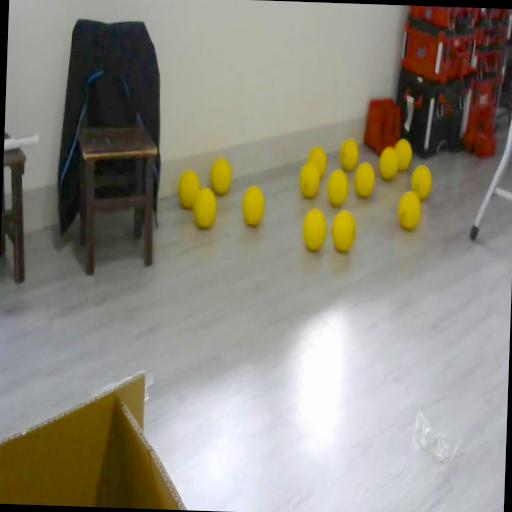FUEL: (301, 206, 327, 252), (191, 184, 217, 228), (330, 208, 356, 252), (241, 184, 266, 226), (396, 188, 421, 230), (177, 168, 200, 208), (353, 160, 375, 198), (326, 168, 348, 206), (210, 156, 232, 194), (410, 164, 432, 200), (338, 137, 358, 170), (307, 145, 327, 178), (392, 137, 412, 170)
